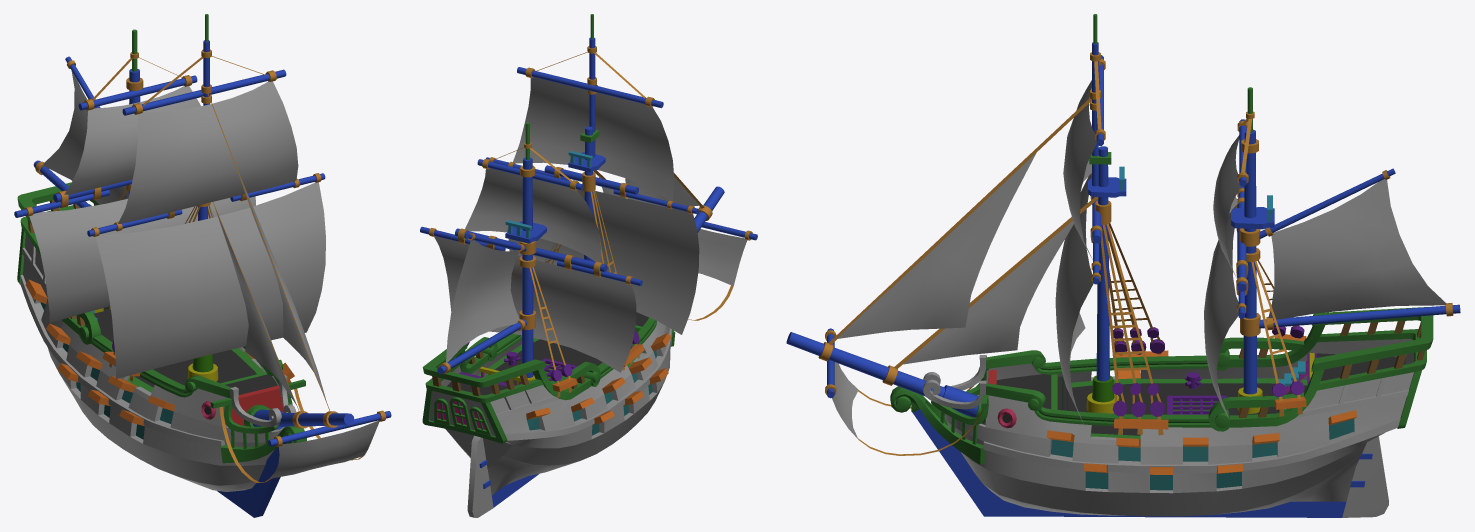
File: Frigate_mm.fbx
3 views of the same model, side by side, from view 1: azimuth 30°, elevation 25°; view 2: azimuth 150°, elevation 25°; view 3: azimuth 270°, elevation 25° (orthographic). The views are drawn at different scales.
Parts seen in each view (by area): view 1: Sails, Frigate, Upgrade_02, Upgrade_01; view 2: Sails, Frigate, Rudder, Upgrade_02, Upgrade_01; view 3: Frigate, Sails, Upgrade_02, Rudder, Upgrade_01.
Boxes of the visible parts, left/top/right/bottom form: Sails: left=29, top=71, right=379, bottom=478; Frigate: left=14, top=14, right=391, bottom=517; Upgrade_02: left=20, top=275, right=224, bottom=447; Upgrade_01: left=22, top=244, right=296, bottom=426; Sails: left=434, top=77, right=747, bottom=372; Frigate: left=420, top=14, right=757, bottom=507; Rudder: left=467, top=435, right=493, bottom=517; Upgrade_02: left=505, top=328, right=672, bottom=440; Upgrade_01: left=496, top=389, right=559, bottom=418; Frigate: left=786, top=14, right=1460, bottom=517; Sails: left=832, top=80, right=1446, bottom=439; Upgrade_02: left=983, top=417, right=1400, bottom=473; Rudder: left=1342, top=436, right=1388, bottom=517; Upgrade_01: left=923, top=355, right=1408, bottom=418.
Size of the model in its own units: 888 by 1611 by 1964.
